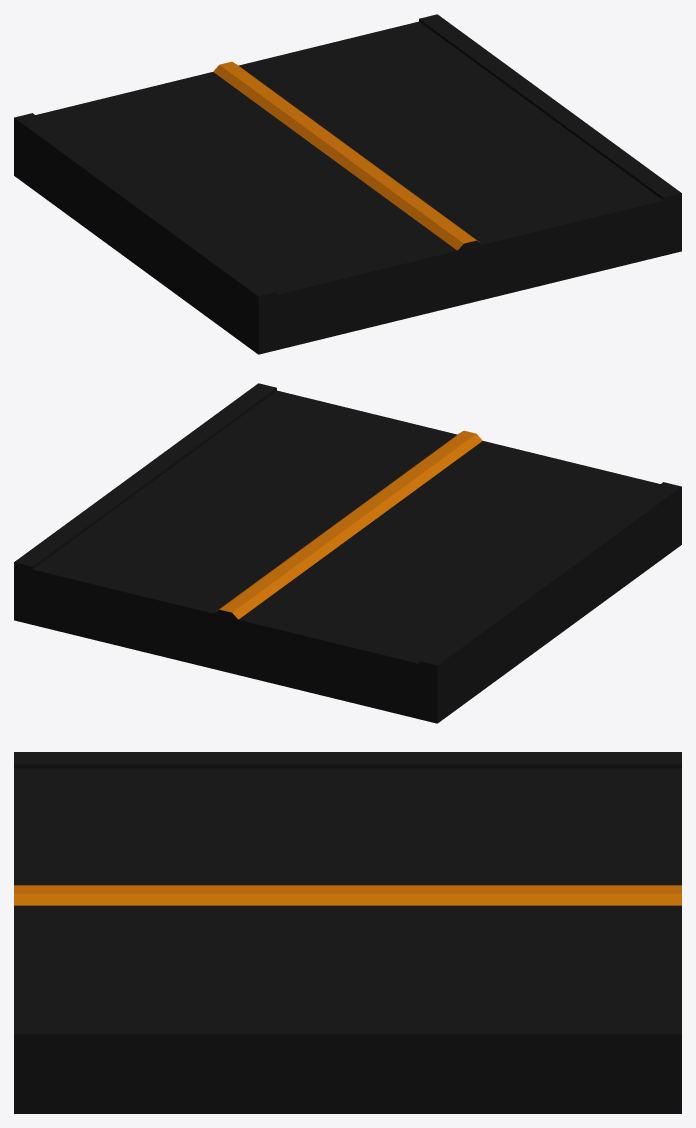
The model's file is road_segment_straight.obj.
3 renders of one model, top to bottom at view 1: azimuth 30°, elevation 25°; view 2: azimuth 150°, elevation 25°; view 3: azimuth 270°, elevation 25°, orthographic. The views are drawn at different scales.
Parts seen in each view (by area): view 1: Cube.001; view 2: Cube.001; view 3: Cube.001.
Boxes of the visible parts, left/top/right/bottom form: Cube.001: left=14, top=14, right=681, bottom=354; Cube.001: left=14, top=383, right=681, bottom=723; Cube.001: left=14, top=752, right=681, bottom=1113.
Bounding box in the file's own units: 16 × 2.2 × 16.
